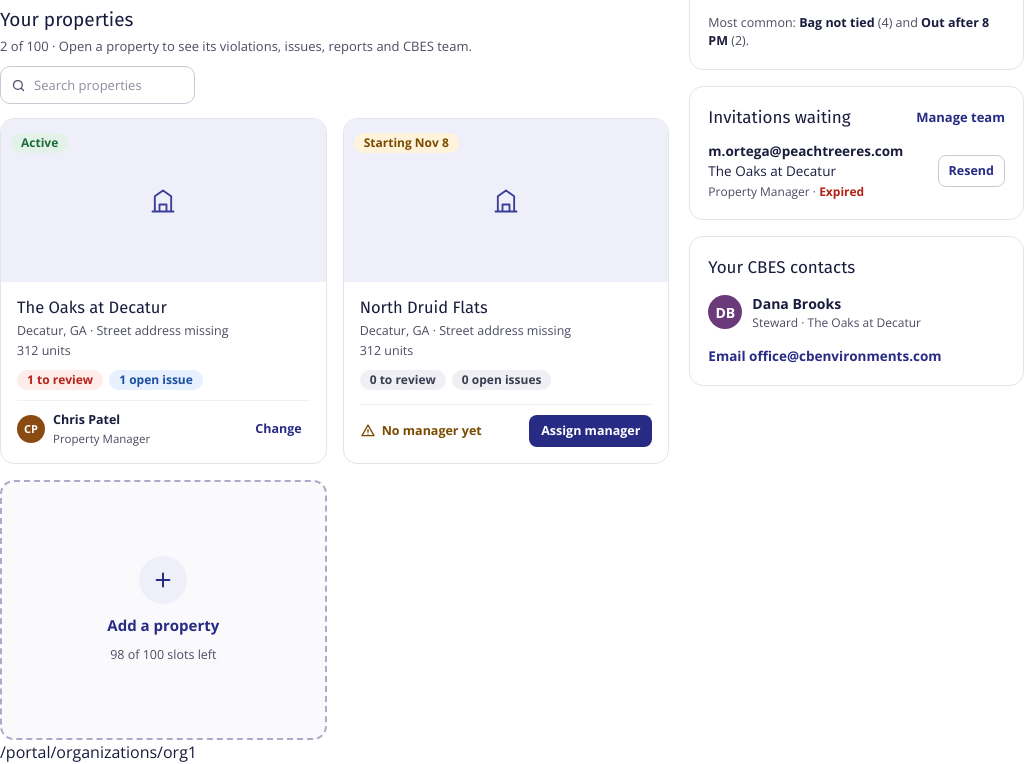
Assign manager › checks new emails before saving
(page scrolled)
Click the button with aria-label "Assign a manager to North Druid Flats". click: (591, 431)
box: left=529, top=415, right=652, bottom=447
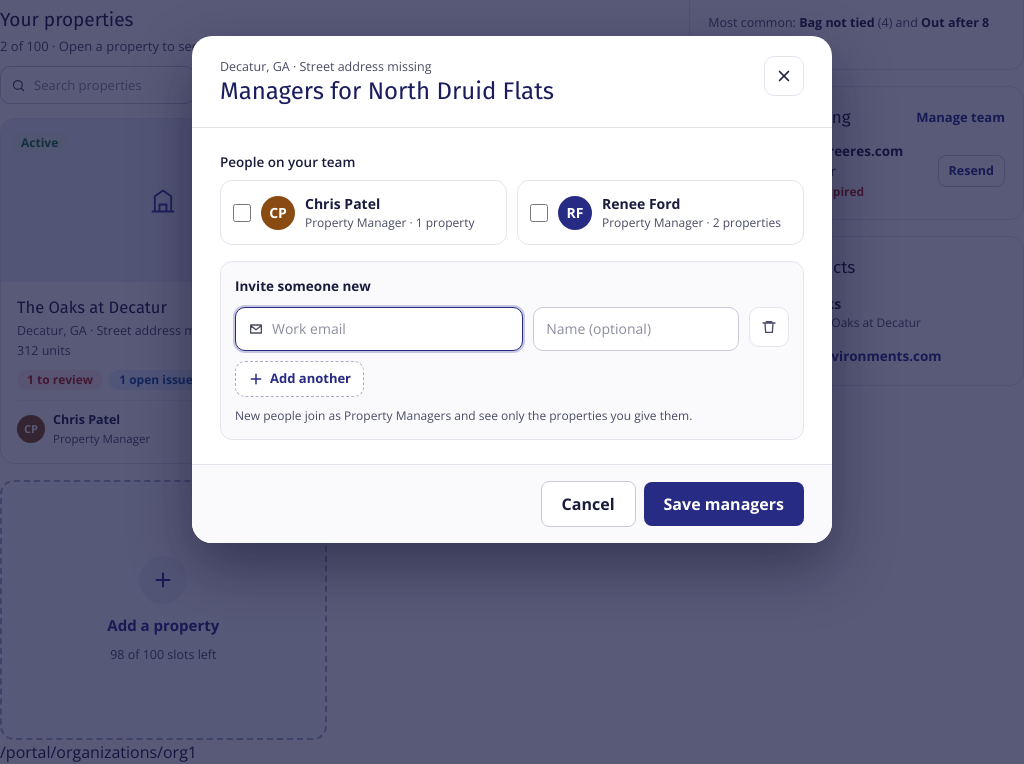
Type "not-an-email" into the field named "Email for person 1". click: (391, 329)
box: left=272, top=318, right=510, bottom=339
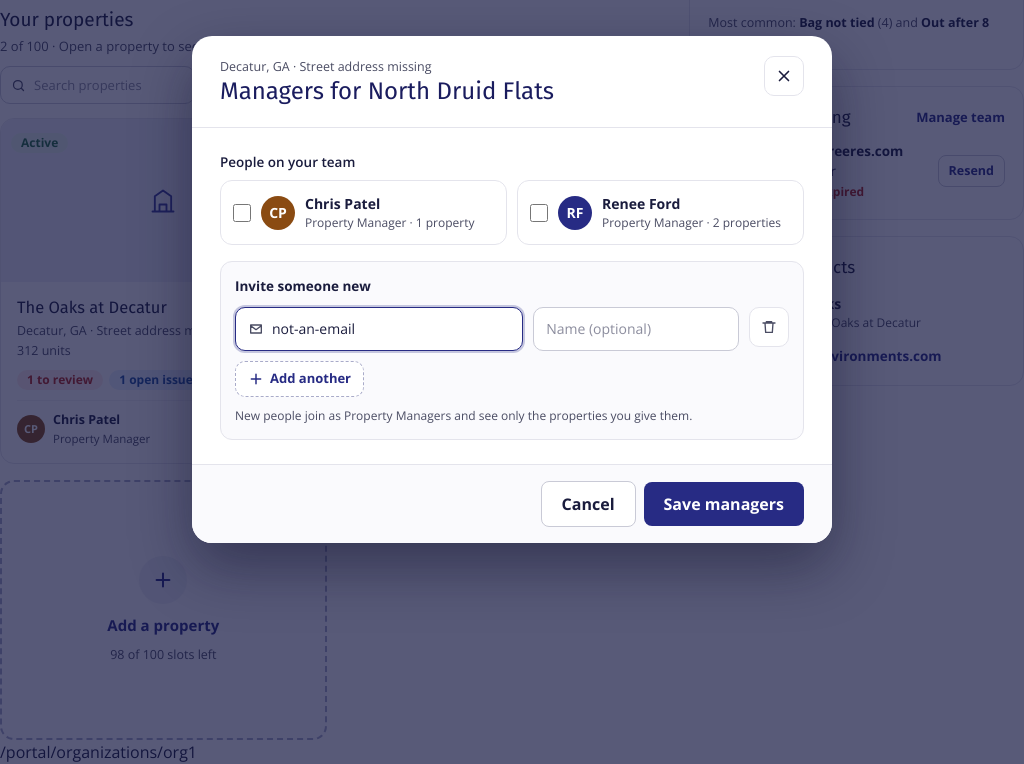
Click the button "Save managers". click: (724, 504)
box: left=644, top=482, right=804, bottom=526
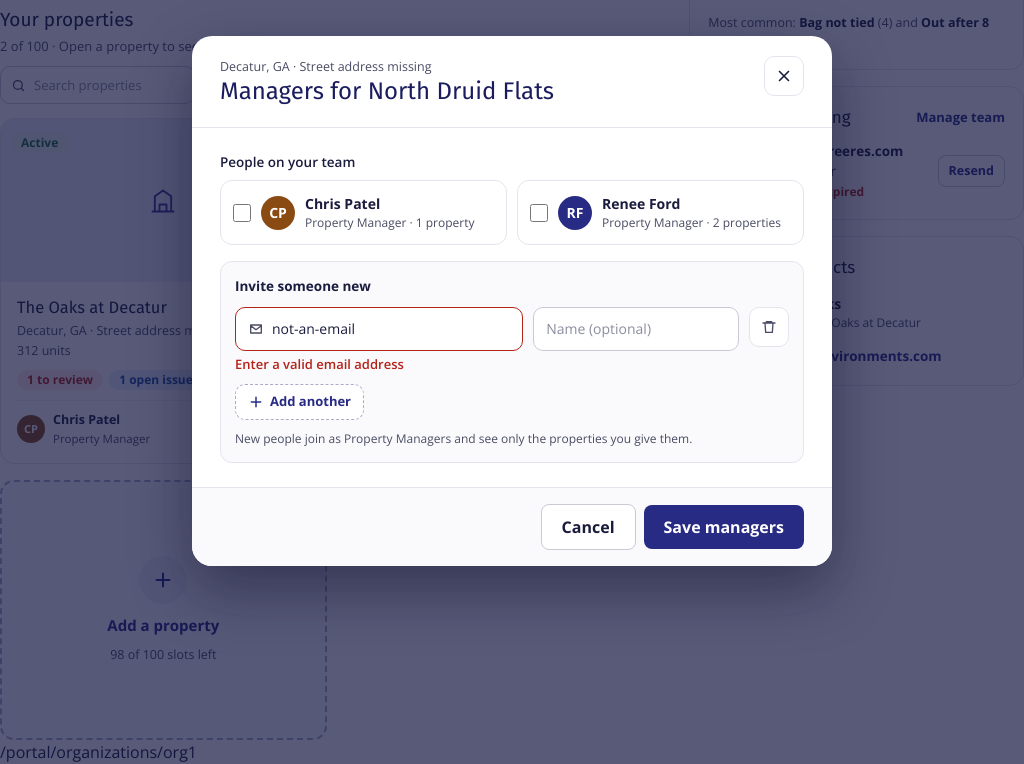
Check: the text "Enter a valid email address" is shown, box left=235, top=355, right=404, bottom=373
